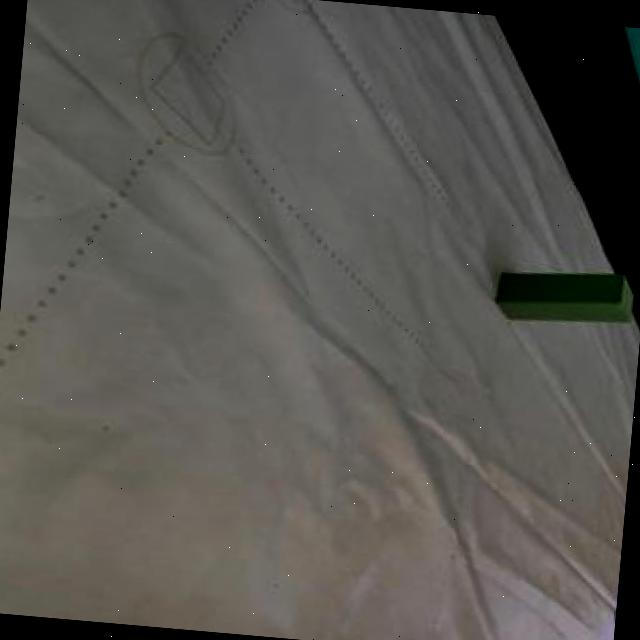greenbox: (495, 258, 636, 328)
